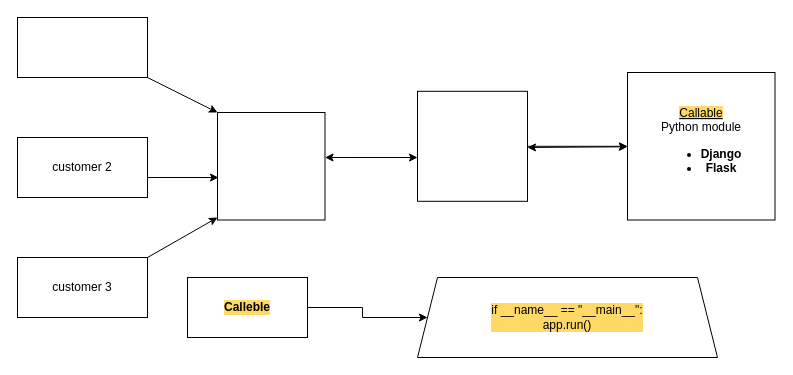
The diagram is 793 pixels wide and 375 high, and some of its shapes have lost their labels. The shapes that lost their labels are listed below. From the top down, each one's centre as x and y in pixels, then its label:
At point (82, 47): "customer 1".
At point (472, 145): "WSGI Gunicorn uWSGI".
At point (270, 166): "WEB SERVER Apache NGINX IIS".
